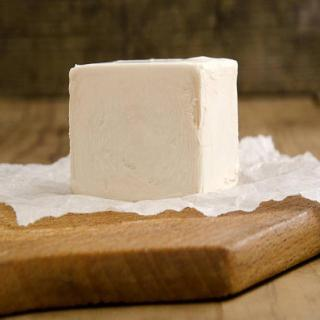Tahu: (63, 55, 253, 203)
